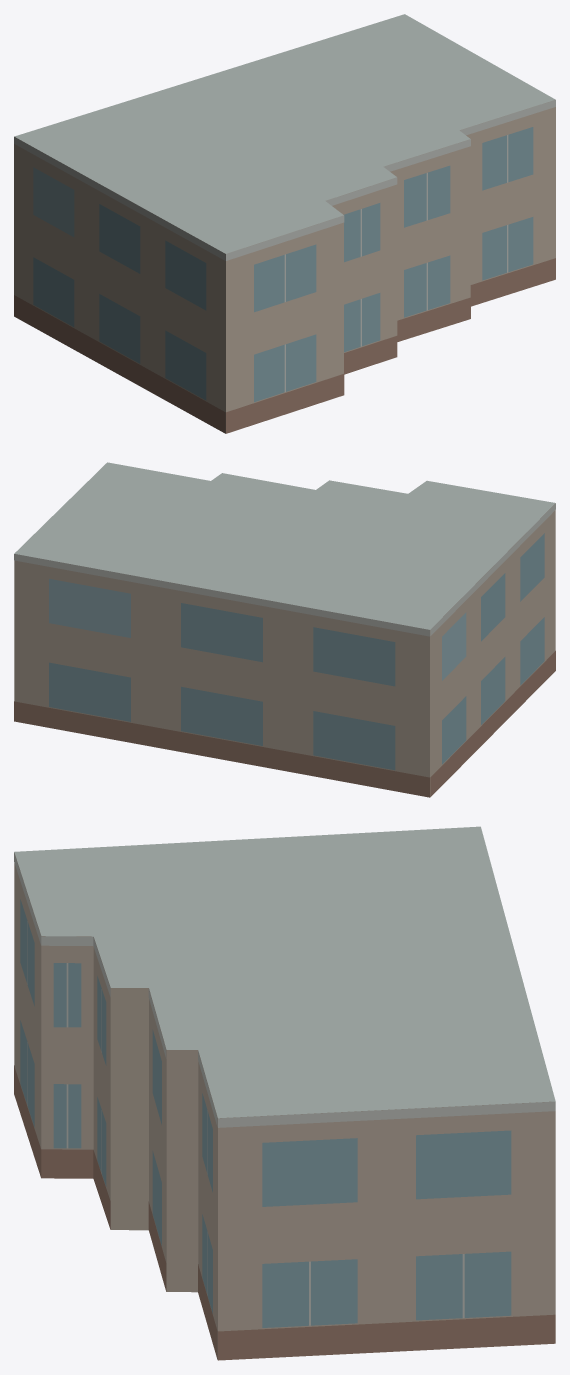
File: survey-upis-32610777.glb
3 views of the same model, one above another, from view 1: azimuth 30°, elevation 25°; view 2: azimuth 150°, elevation 25°; view 3: azimuth 270°, elevation 25° (orthographic). The views are drawn at different scales.
Visible parts, largest first — view 1: survey-upis-32610777.tmp; view 2: survey-upis-32610777.tmp; view 3: survey-upis-32610777.tmp.
Boxes of the visible parts, <box> form: survey-upis-32610777.tmp: <box>14,14,555,433</box>; survey-upis-32610777.tmp: <box>14,462,555,797</box>; survey-upis-32610777.tmp: <box>14,826,555,1360</box>.
Size of the model in its own units: 15.77 by 6.1 by 12.37.
